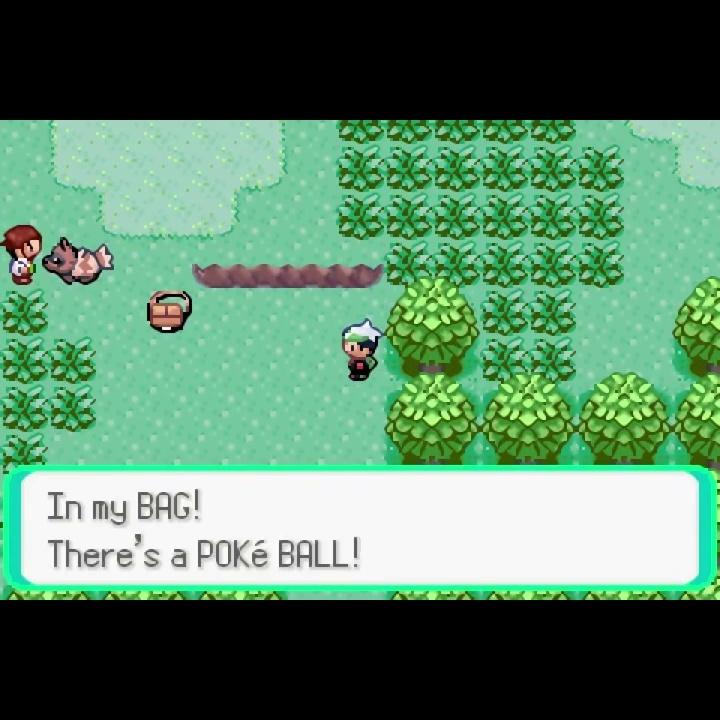grass: (575, 240, 626, 291), (575, 191, 626, 240), (529, 238, 577, 290), (480, 240, 530, 289), (479, 288, 529, 337), (576, 145, 626, 194), (481, 192, 529, 243), (336, 192, 385, 241), (1, 286, 48, 337), (49, 336, 96, 387), (529, 288, 577, 337), (481, 336, 530, 384), (48, 386, 99, 432), (433, 241, 481, 289), (337, 145, 385, 193), (385, 192, 432, 241), (433, 192, 480, 241), (529, 192, 576, 241), (1, 337, 48, 386), (1, 385, 48, 433), (434, 145, 481, 193), (481, 145, 529, 192), (529, 145, 577, 192), (384, 241, 433, 287), (531, 336, 577, 385), (386, 145, 433, 192), (1, 432, 50, 465), (385, 120, 435, 146), (481, 120, 530, 145), (338, 120, 387, 144), (435, 120, 482, 145), (531, 120, 576, 145)
npc: (337, 316, 386, 384), (1, 221, 44, 287)
wall: (385, 276, 481, 380), (381, 373, 482, 465), (576, 372, 673, 465), (481, 373, 576, 465), (670, 274, 720, 373), (672, 371, 720, 467)
